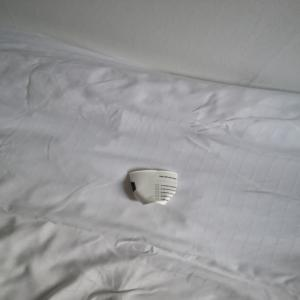Cup: (129, 169, 181, 208)
